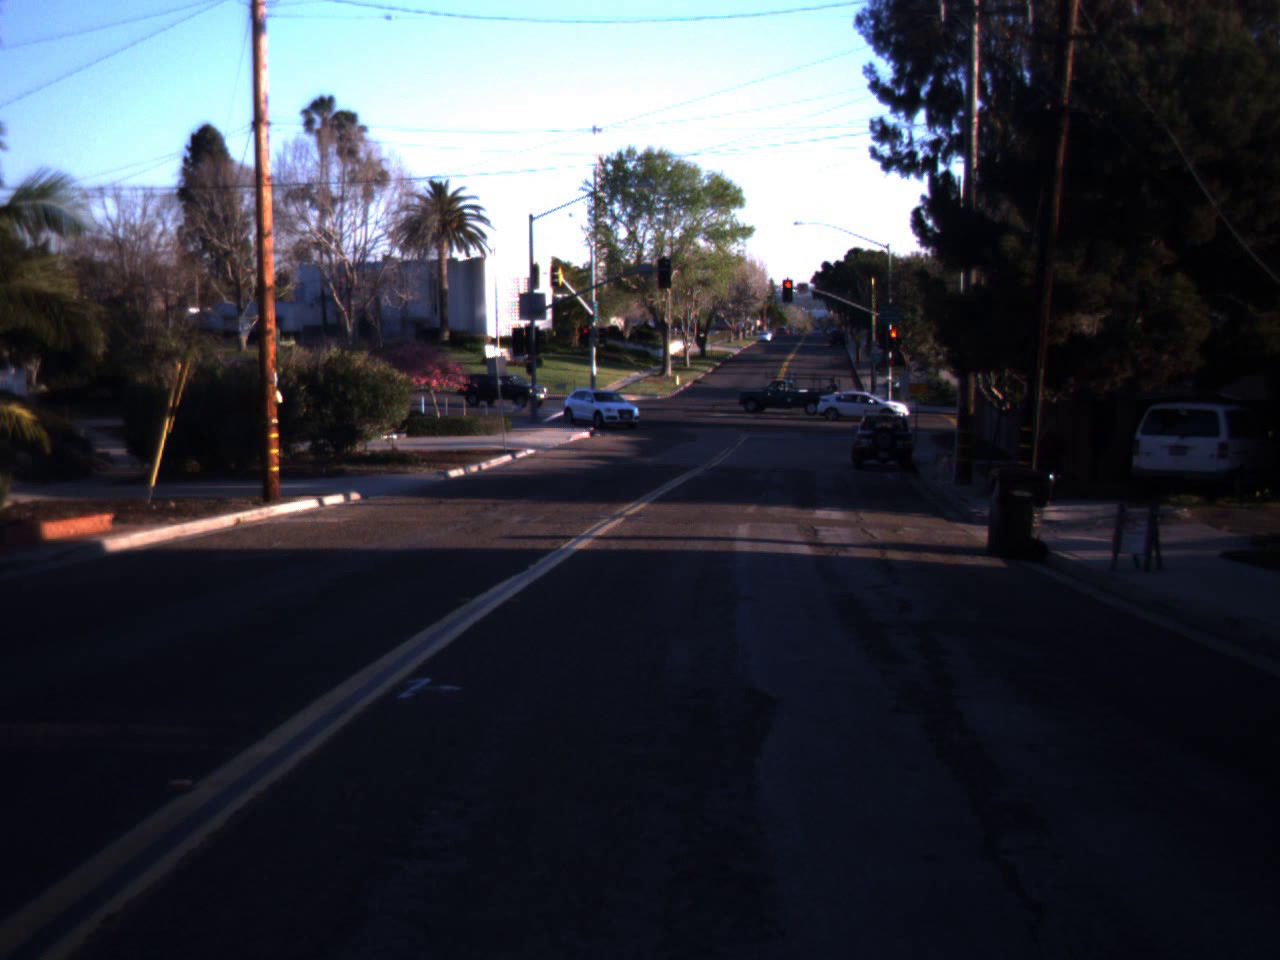stop: (888, 328, 900, 355), (782, 279, 794, 306), (580, 325, 592, 352)
